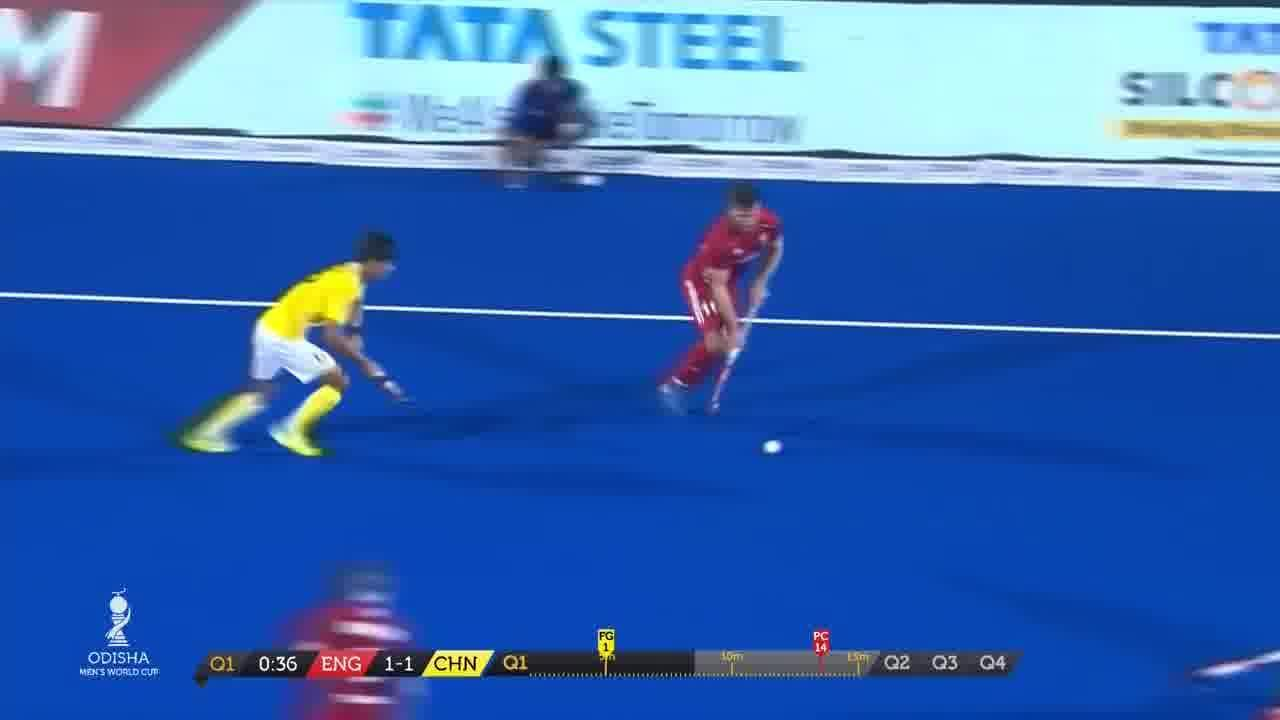ball: (756, 428, 789, 461)
